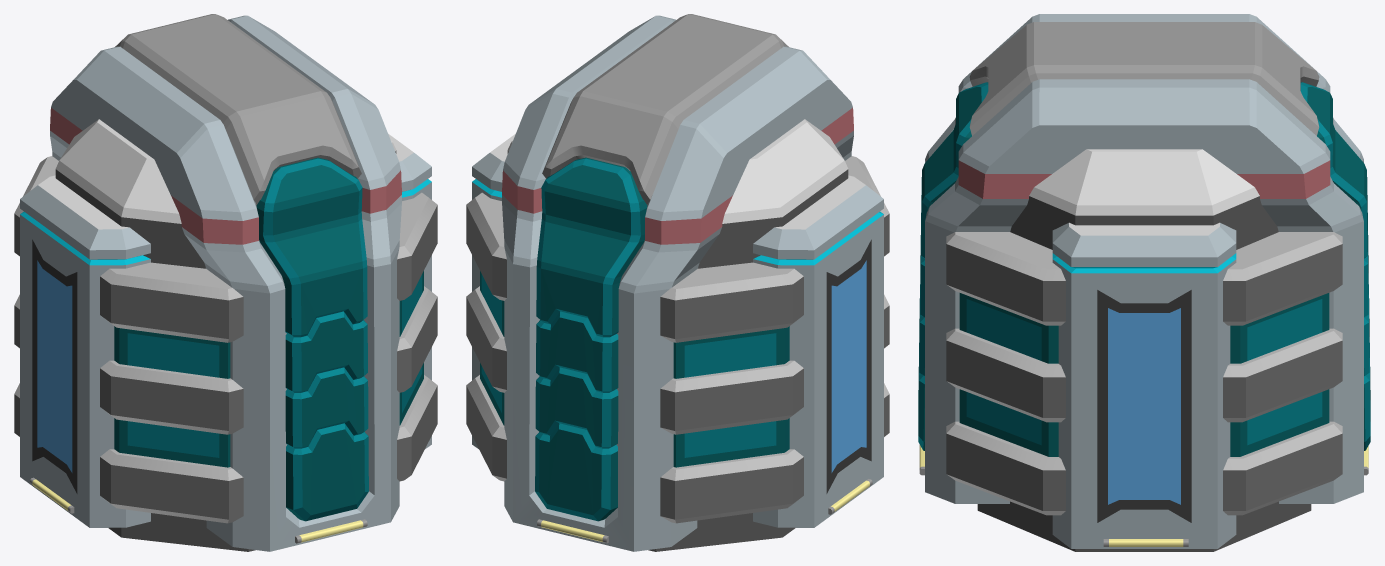
The model's file is building_001.fbx.
The picture shows the model from 3 angles, left to right: view 1: azimuth 30°, elevation 25°; view 2: azimuth 150°, elevation 25°; view 3: azimuth 270°, elevation 25°; orthographic projection. The views are drawn at different scales.
Parts seen in each view (by area): view 1: building_001; view 2: building_001; view 3: building_001.
Part boxes in pixels (x1,y1,x2,y2): building_001: (14, 14, 437, 551); building_001: (466, 14, 889, 551); building_001: (918, 14, 1370, 551).
Size of the model in its own units: 1522 by 1618 by 1728.
